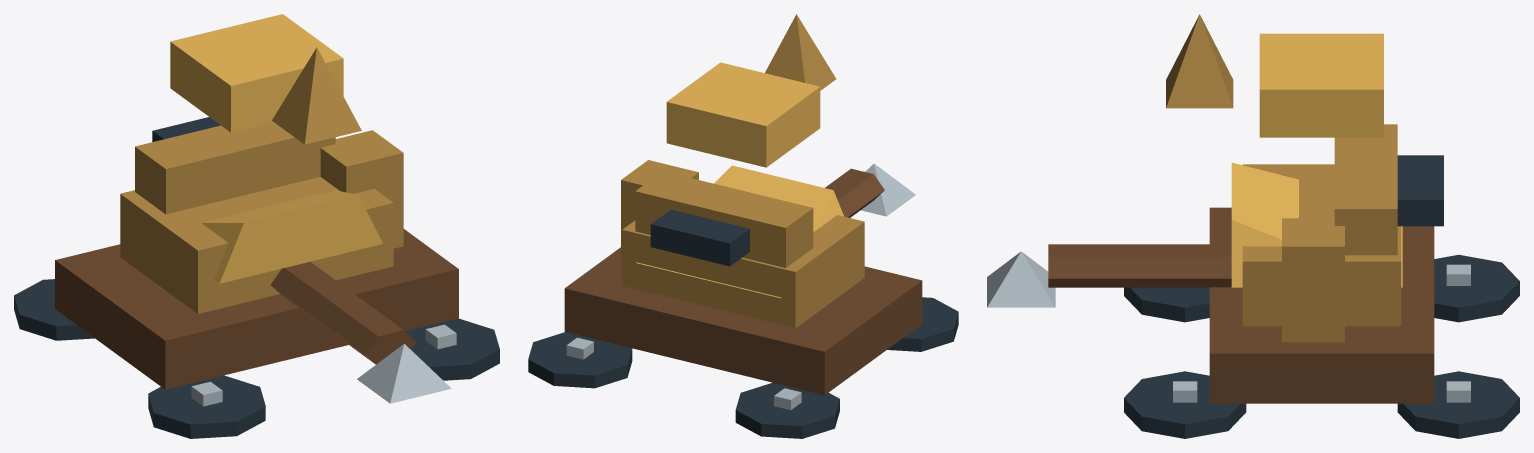
File: siege.obj
3 views of the same model, side by side, from view 1: azimuth 30°, elevation 25°; view 2: azimuth 150°, elevation 25°; view 3: azimuth 270°, elevation 25° (orthographic). The views are drawn at different scales.
Parts seen in each view (by area): view 1: siege; view 2: siege; view 3: siege.
Part boxes in pixels (x1,y1,x2,y2): siege: (14,14,499,438); siege: (528,14,958,438); siege: (987,14,1519,438).
Bounding box in the file's own units: 1.9 × 1.78 × 2.53.
